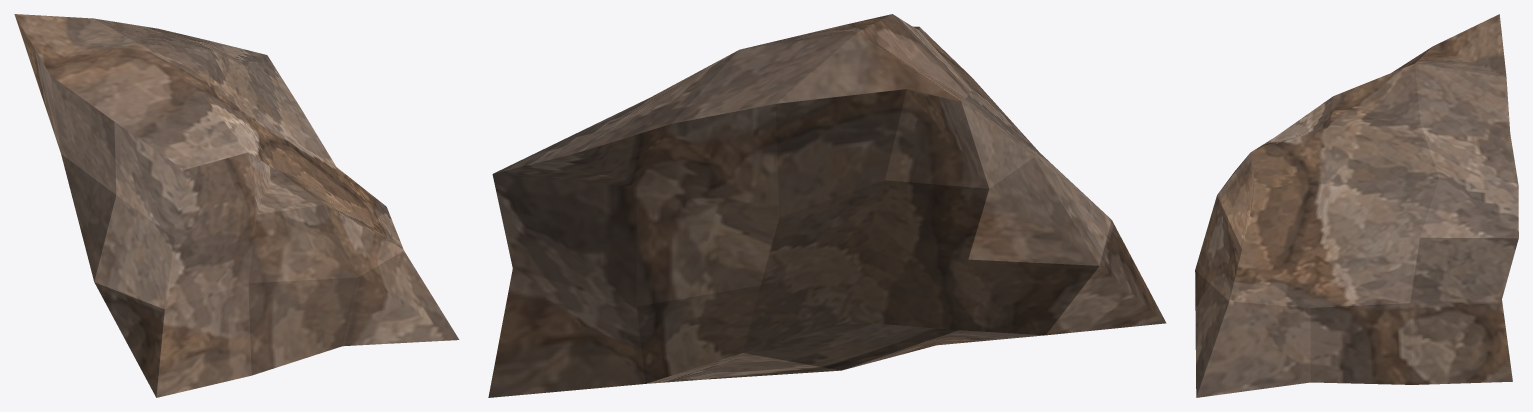
File: rock-l-blocky_lod1.glb
3 views of the same model, side by side, from view 1: azimuth 30°, elevation 25°; view 2: azimuth 150°, elevation 25°; view 3: azimuth 270°, elevation 25° (orthographic). The views are drawn at different scales.
Parts seen in each view (by area): view 1: rock-l-blocky; view 2: rock-l-blocky; view 3: rock-l-blocky.
Part boxes in pixels (left/top/right/bottom): rock-l-blocky: left=14, top=14, right=459, bottom=397; rock-l-blocky: left=488, top=14, right=1166, bottom=397; rock-l-blocky: left=1195, top=14, right=1518, bottom=397.
Size of the model in its own units: 3.72 by 3.2 by 3.67.
Materials: 1 (1 with a texture image).
